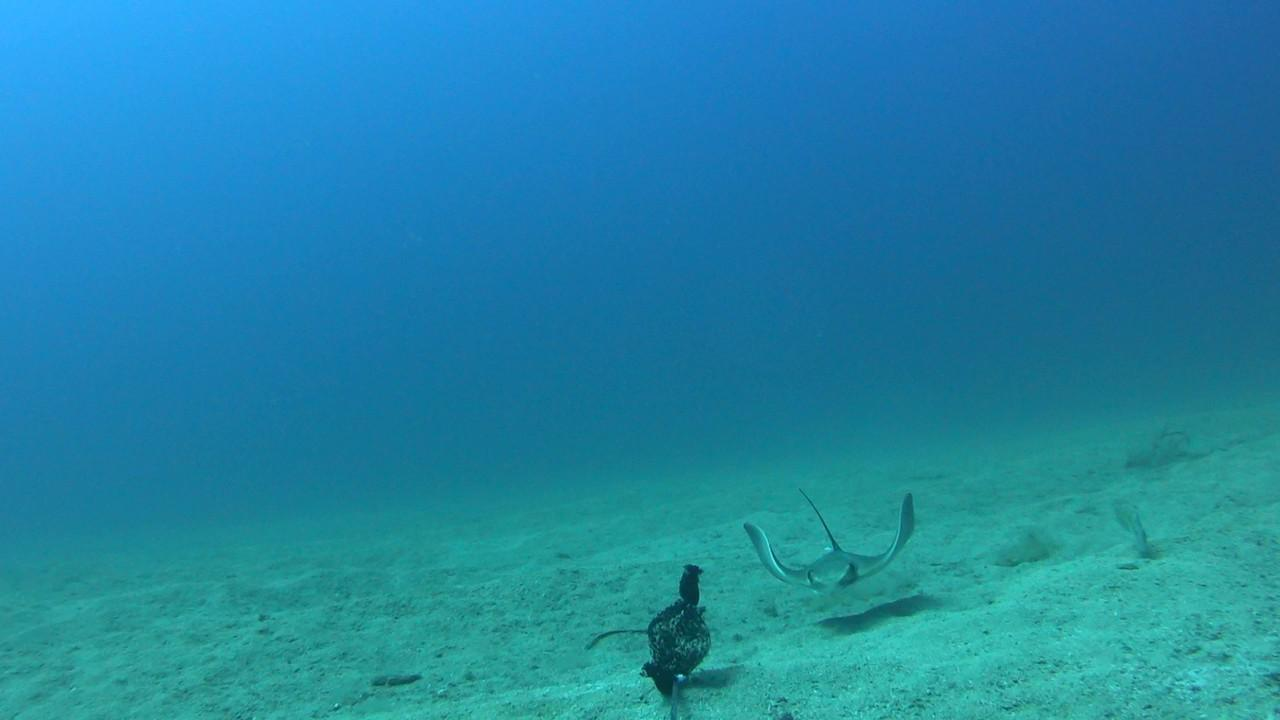myliobatis: (723, 470, 956, 603)
raor: (1114, 502, 1150, 557)
